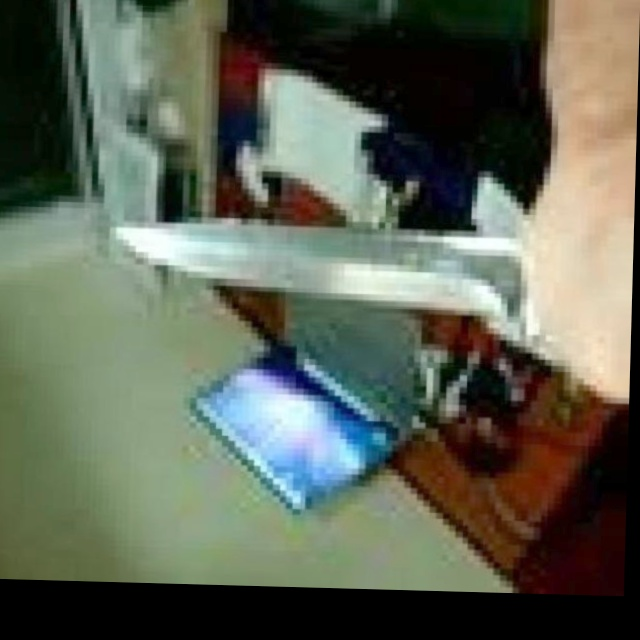Sharp-Object: (115, 217, 545, 342)
